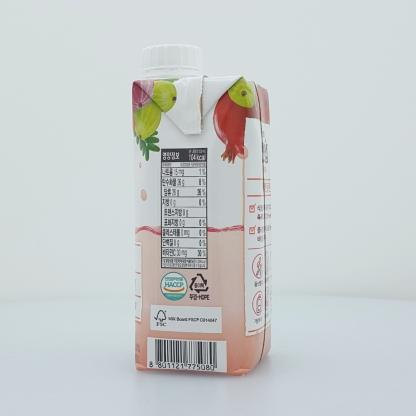--------------330ML: (132, 44, 271, 376)
